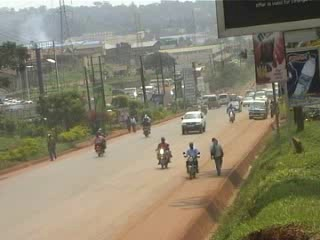Car: (225, 99, 242, 112), (241, 96, 256, 108)
Motorcycle: (181, 149, 202, 179), (154, 147, 171, 170), (92, 139, 104, 158), (140, 120, 151, 138), (227, 108, 236, 123)
